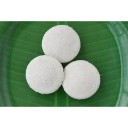idly: (41, 23, 80, 60), (64, 61, 102, 96), (26, 56, 63, 91)
